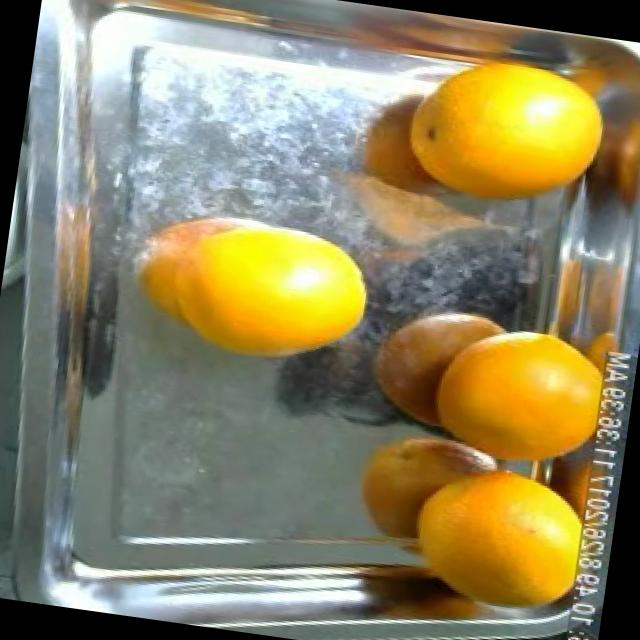Fruit: (177, 200, 396, 388)
